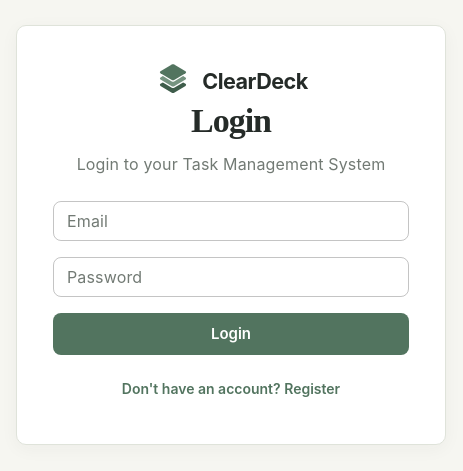
Test: registration submits to backend before returning to login
Click the button "Don't have an account? Register" at [231, 390], box x1=53 y1=371 x2=409 y2=408
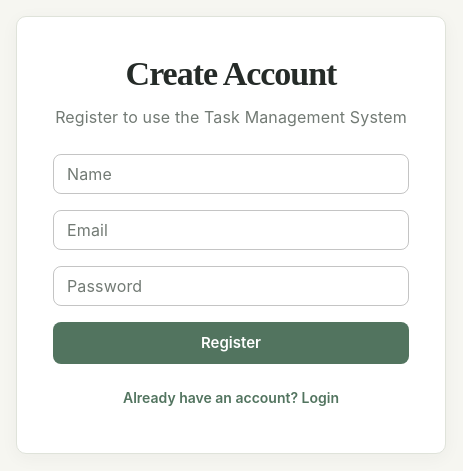
Type "Student" into the field labelled "Name" at [231, 174], box x1=53 y1=154 x2=409 y2=194
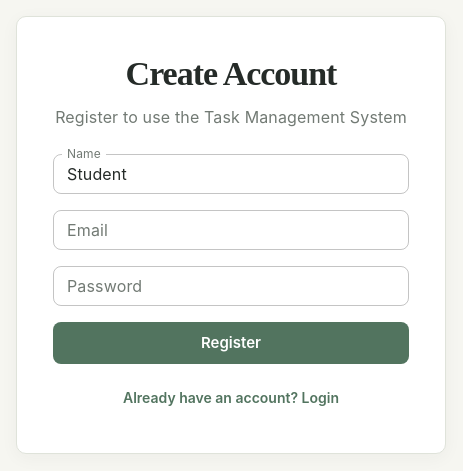
Type "student@example.test" into the field labelled "Email" at [231, 230], box x1=53 y1=210 x2=409 y2=250
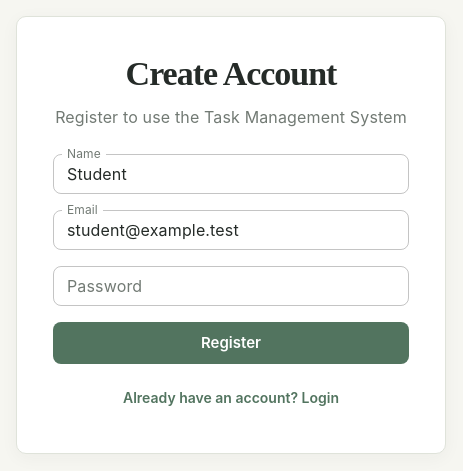
Type "Password123!" into the password field labelled "Password" at [231, 286], box x1=53 y1=266 x2=409 y2=306
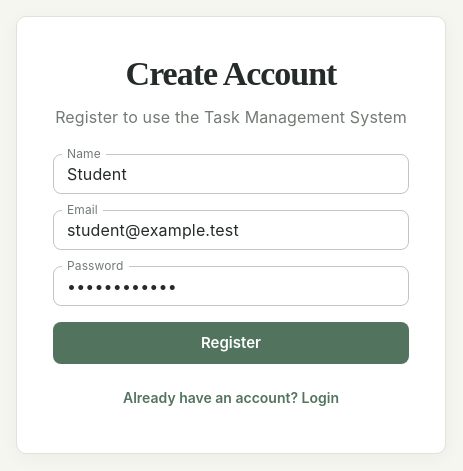
Click the button "Register" at [231, 343], box x1=53 y1=322 x2=409 y2=364
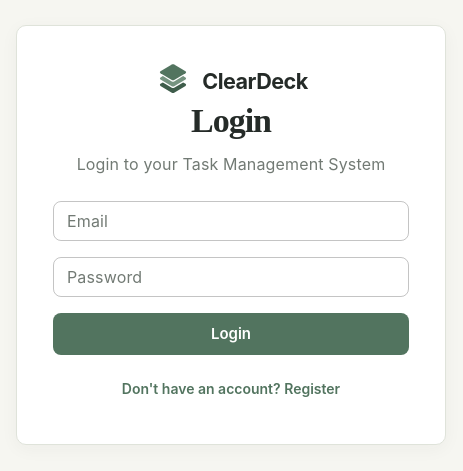
expect the heading "Login" is shown: met, box x1=191 y1=102 x2=271 y2=139
